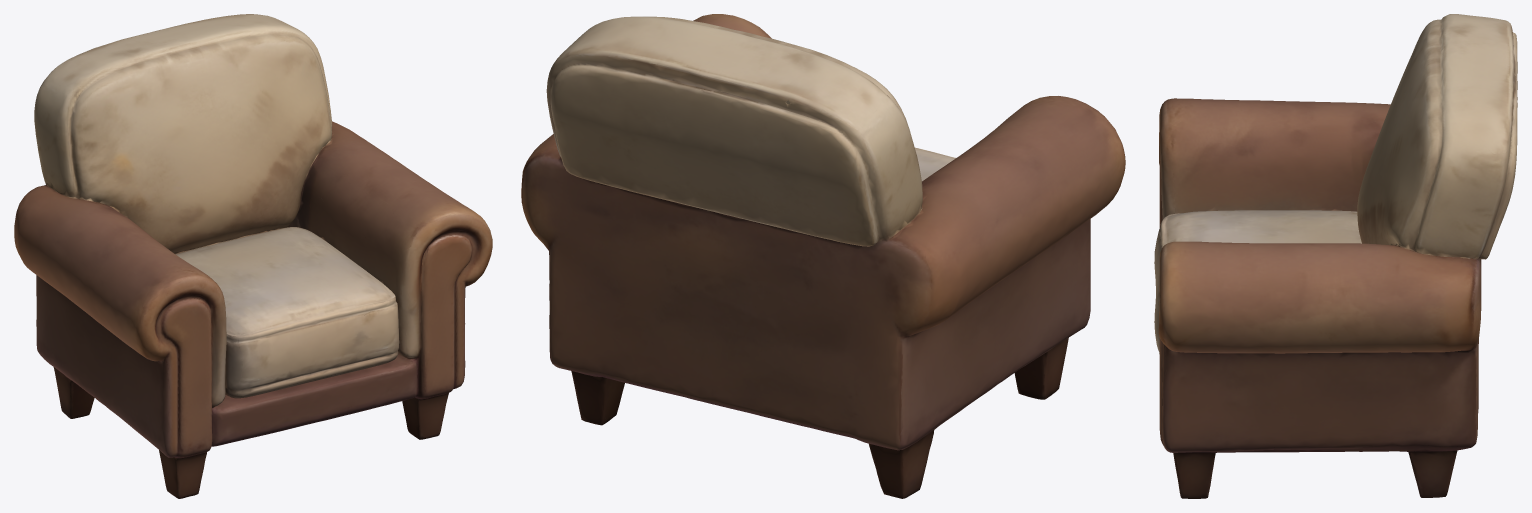
File: holodeck_Arcmchair.glb
3 renders of one model, left to right at view 1: azimuth 30°, elevation 25°; view 2: azimuth 150°, elevation 25°; view 3: azimuth 270°, elevation 25°, orthographic. The views are drawn at different scales.
Visible parts, largest first — view 1: world; view 2: world; view 3: world.
Boxes of the visible parts, x1,y1,x2,y2 form: world: (14, 14, 492, 498); world: (521, 14, 1125, 498); world: (1154, 14, 1517, 498).
Bounding box in the file's own units: 1 × 0.909 × 0.8019.
1 material, 1 textured.
